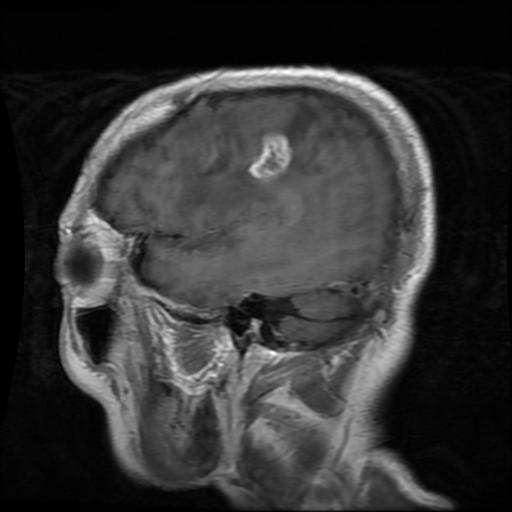Gliomia_tumour: (249, 128, 290, 178)
